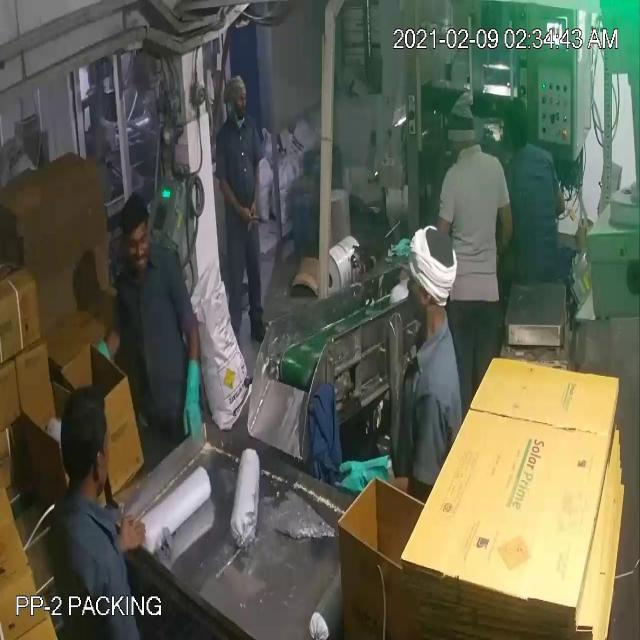Gloves: (31, 76, 365, 472)
